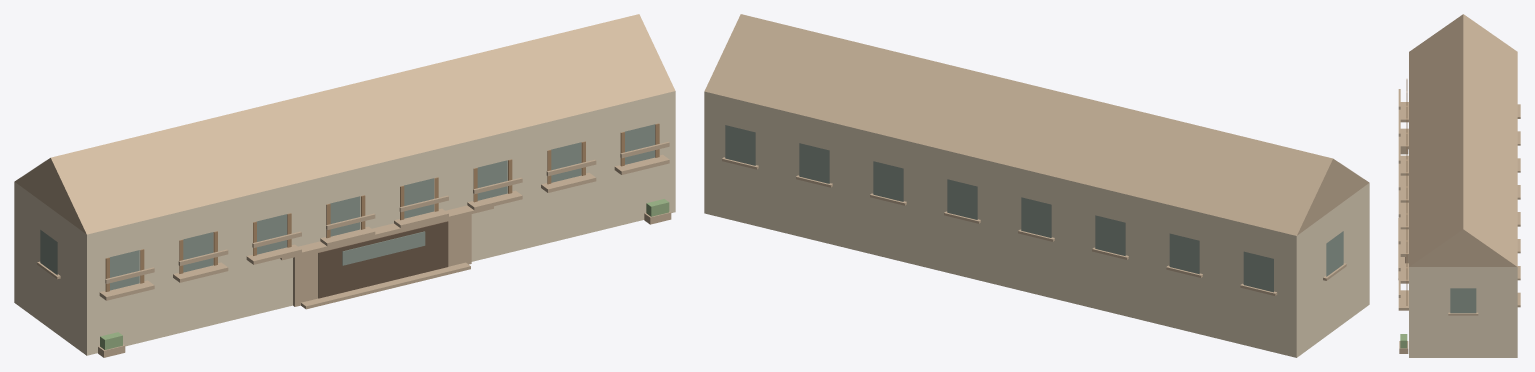
The model's file is residential_4x1_a.glb.
3 renders of one model, left to right at view 1: azimuth 30°, elevation 25°; view 2: azimuth 150°, elevation 25°; view 3: azimuth 270°, elevation 25°, orthographic. The views are drawn at different scales.
Parts seen in each view (by area): view 1: residential_4x1_a_0; view 2: residential_4x1_a_0; view 3: residential_4x1_a_0.
Part boxes in pixels (x1,y1,x2,y2): residential_4x1_a_0: [14, 14, 675, 357]; residential_4x1_a_0: [704, 14, 1369, 357]; residential_4x1_a_0: [1398, 14, 1520, 357].
Size of the model in its own units: 30.86 by 8.5 by 7.33.
